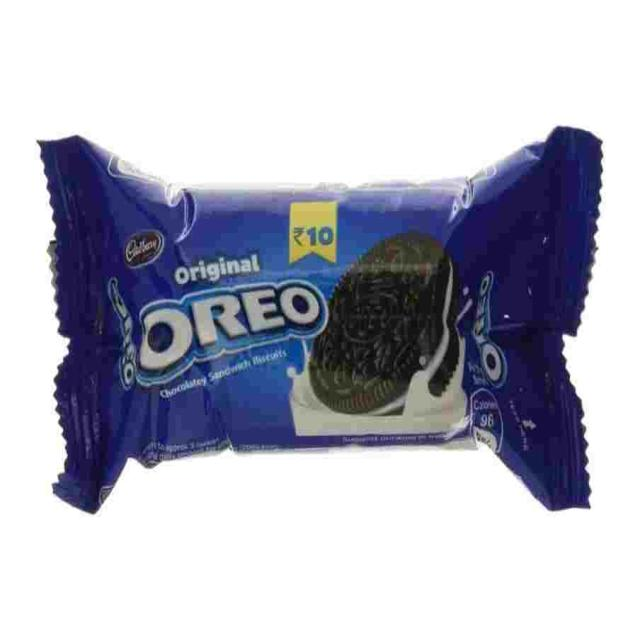oreo: (42, 132, 602, 513)
